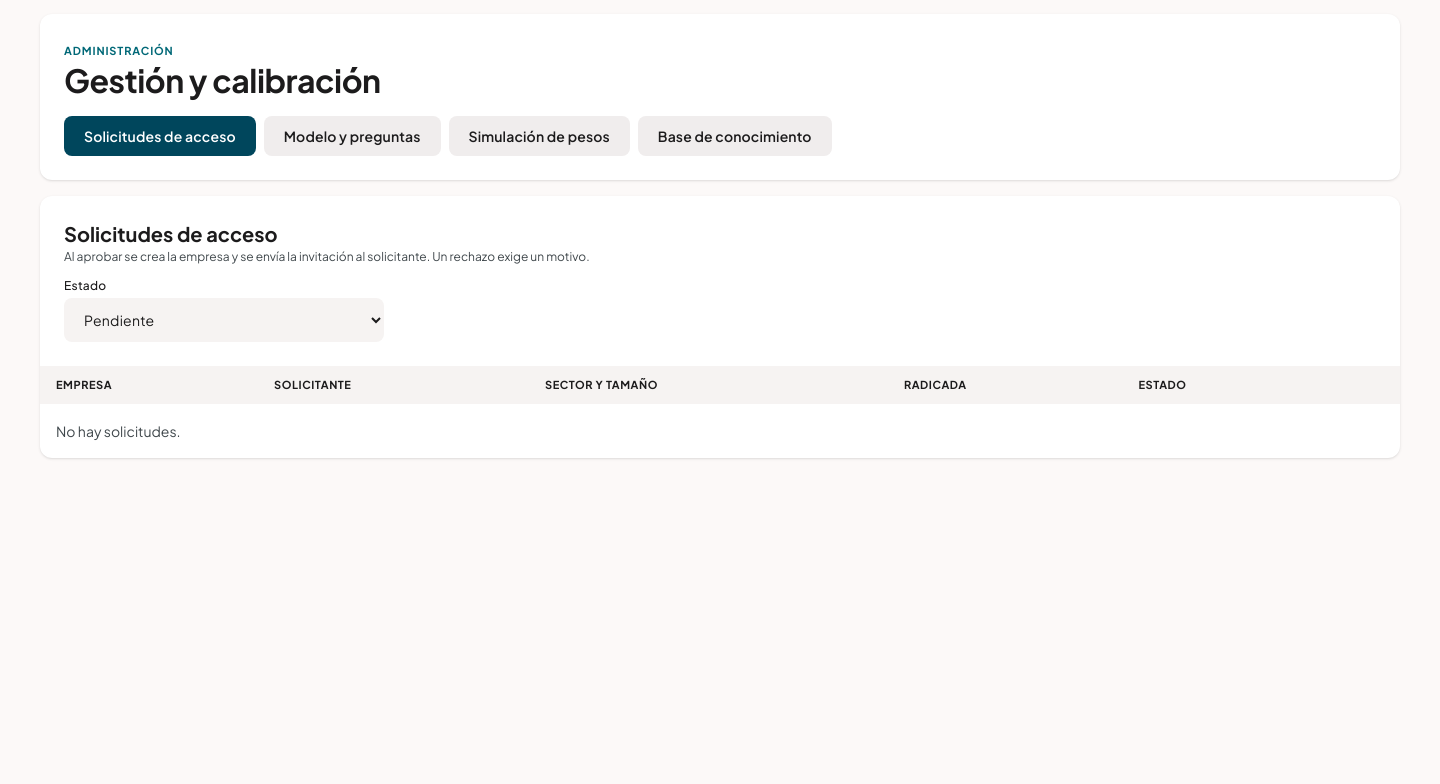
Catálogo de perfiles de cultura › define un perfil nuevo desde un formulario propio
Click the tab "Modelo y preguntas".
click(352, 136)  # box [264, 116, 440, 156]
(page scrolled)
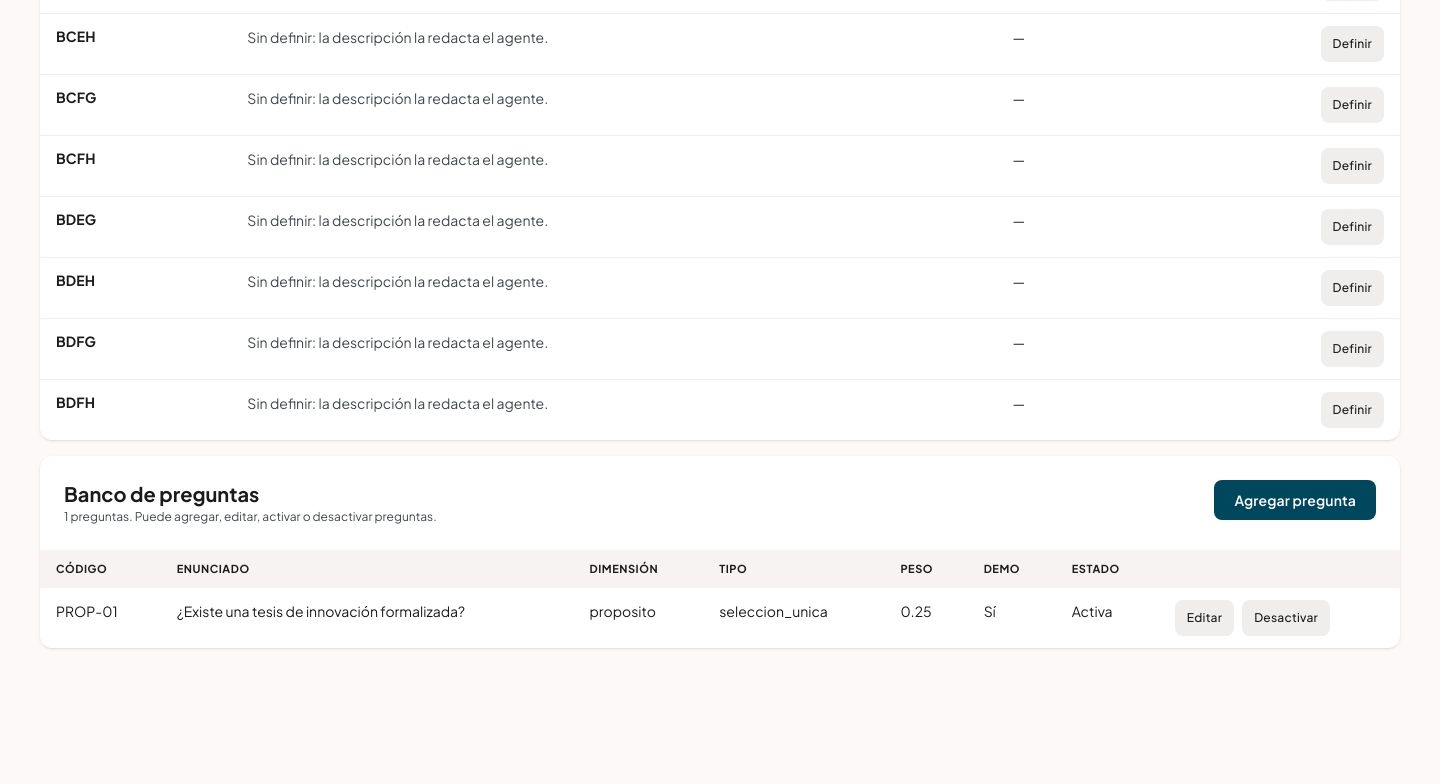
Click the button with aria-label "Definir perfil BDFH".
click(1352, 410)  # box [1321, 392, 1384, 428]
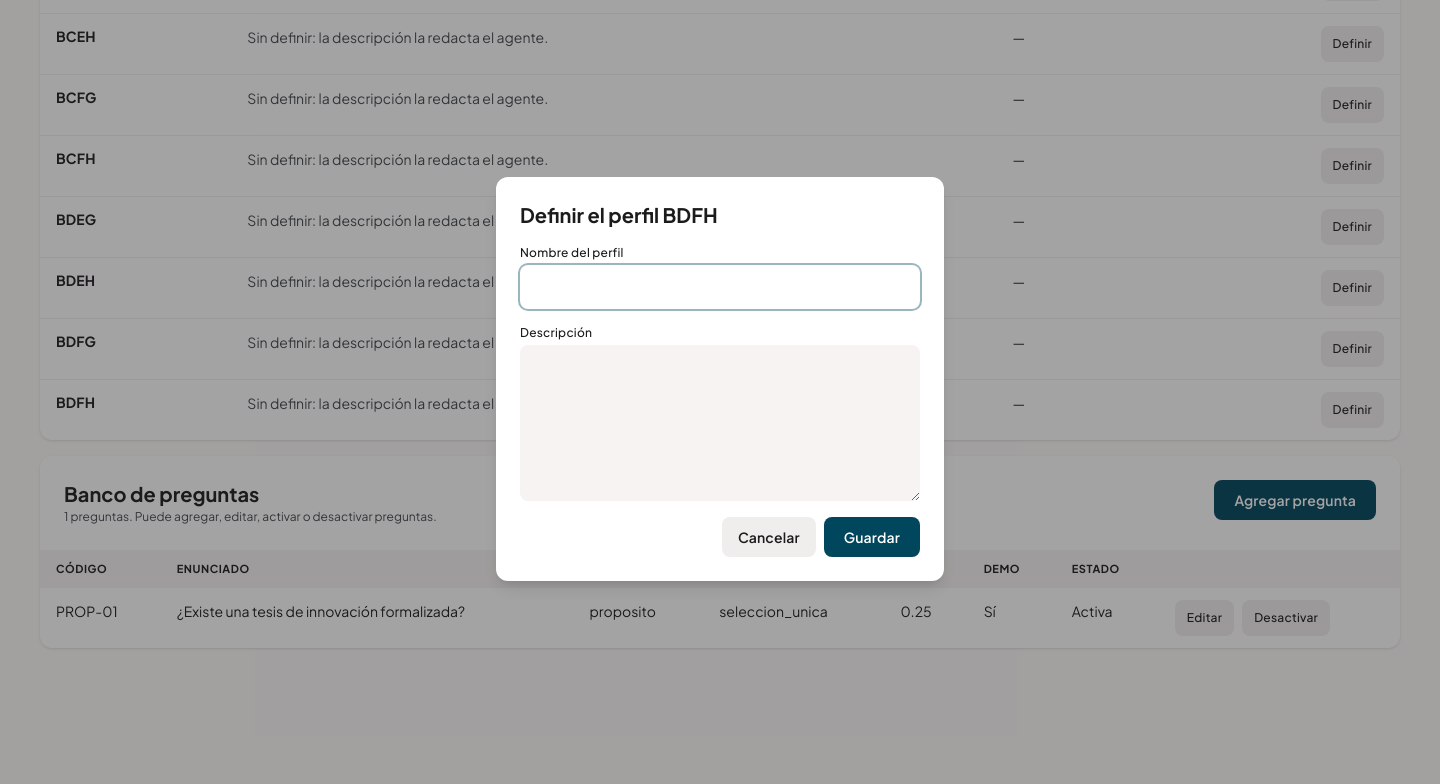
Type "  Prudente  " into the field labelled "Nombre del perfil".
click(720, 287); type("  Prudente  ")  # box [520, 265, 920, 309]
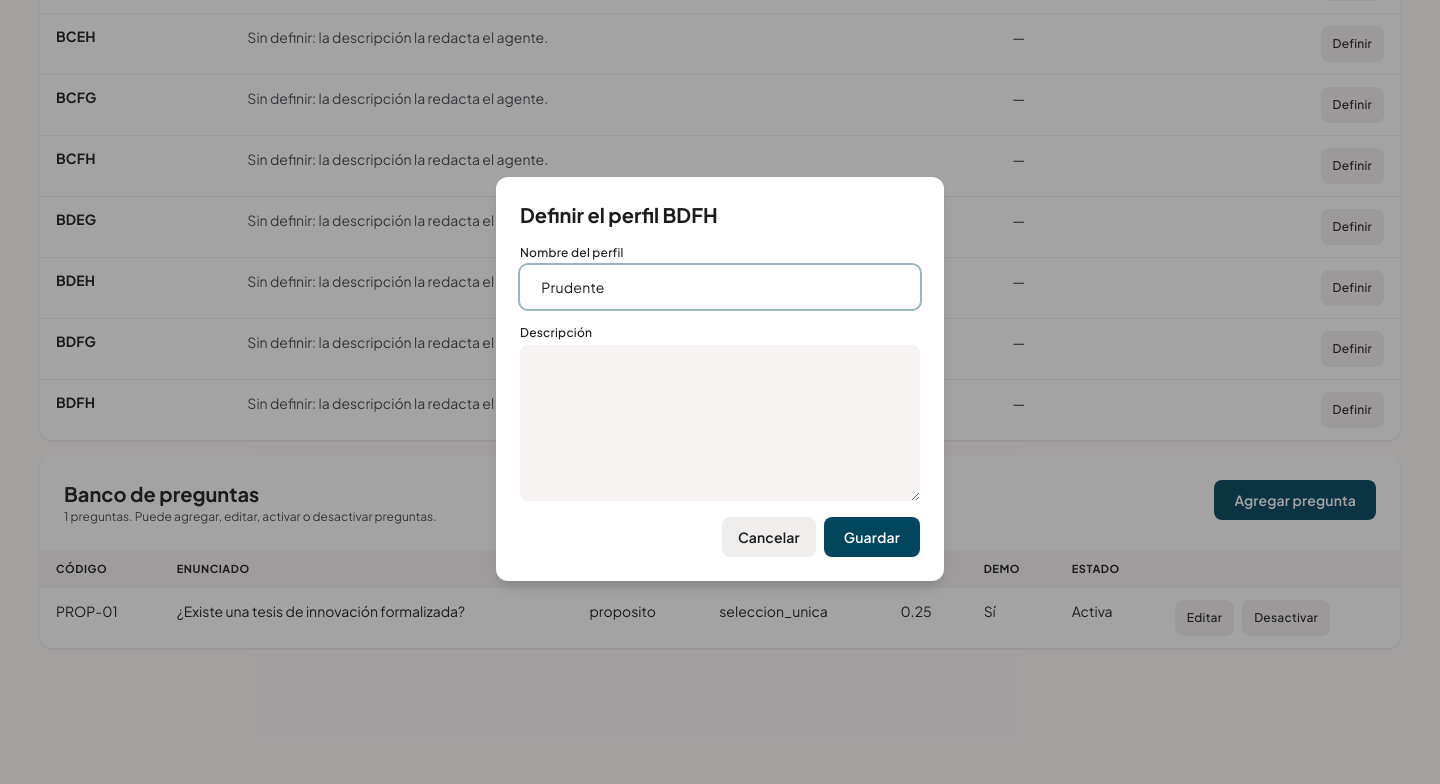
Type "Prefiere la estabilidad." into the text box labelled "Descripción".
click(720, 423); type("Prefiere la estabilidad.")  # box [520, 345, 920, 501]
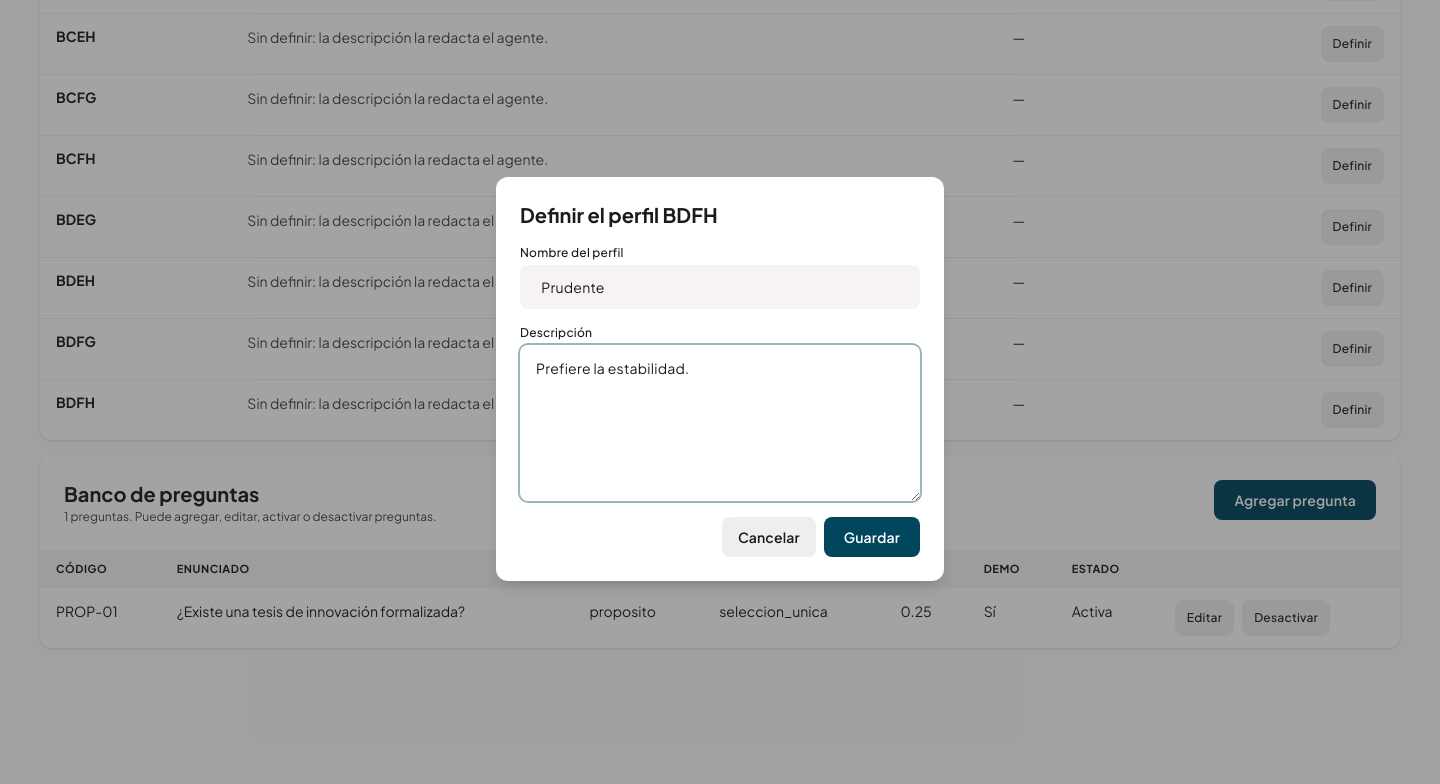
Click the button "Guardar".
click(872, 537)  # box [824, 517, 920, 557]
(page scrolled)
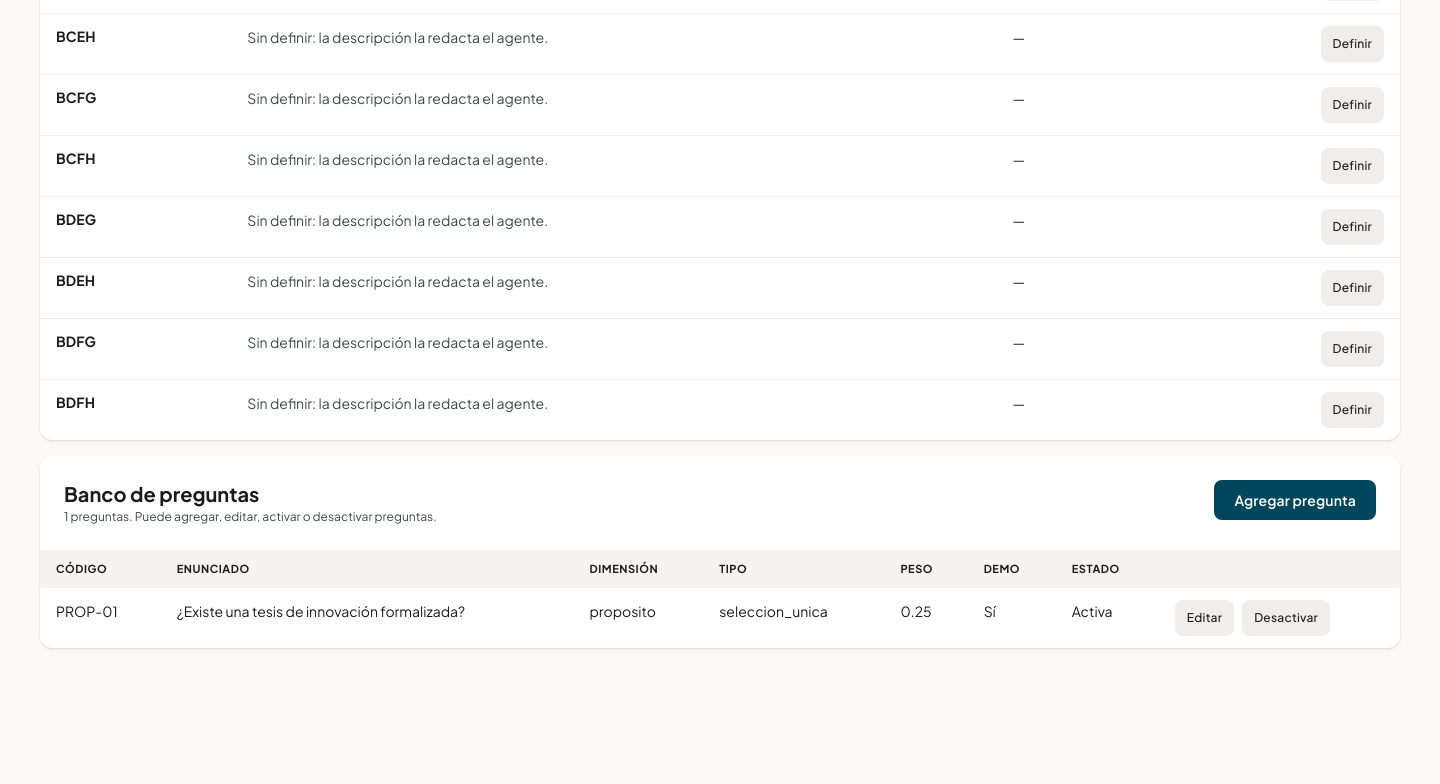
Now the dialog is gone
